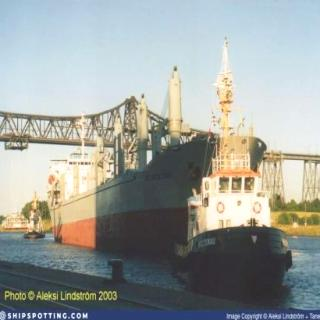Bulk Carrier: (28, 69, 266, 260)
